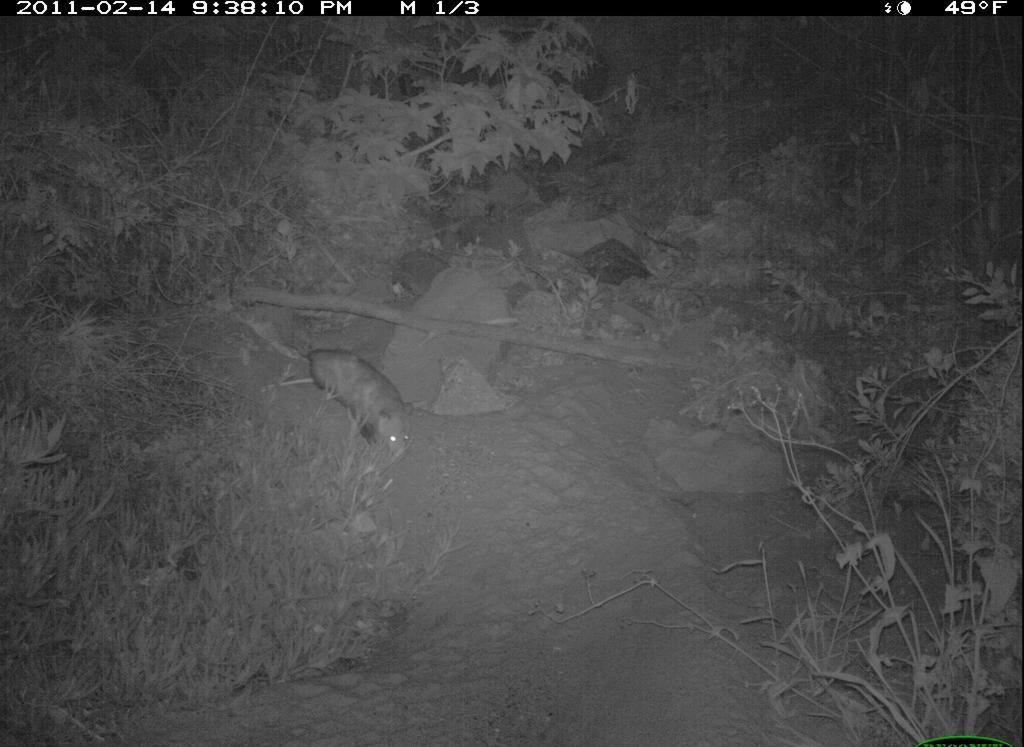opossum: (286, 322, 423, 468)
